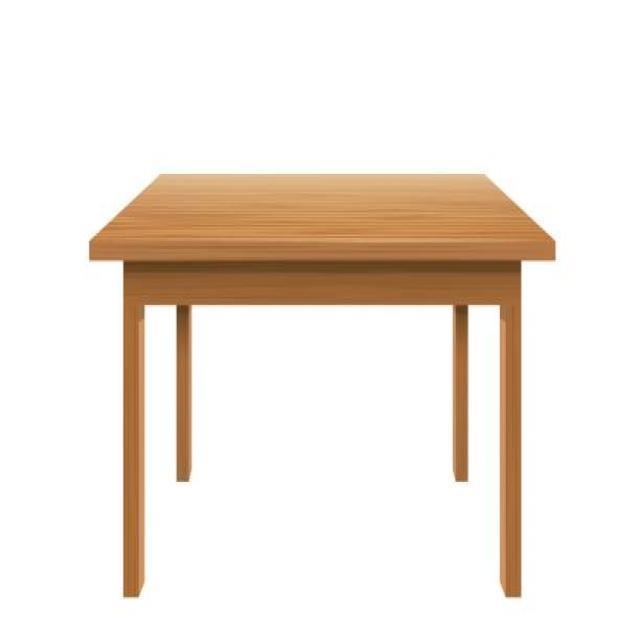table: (88, 169, 556, 600)
